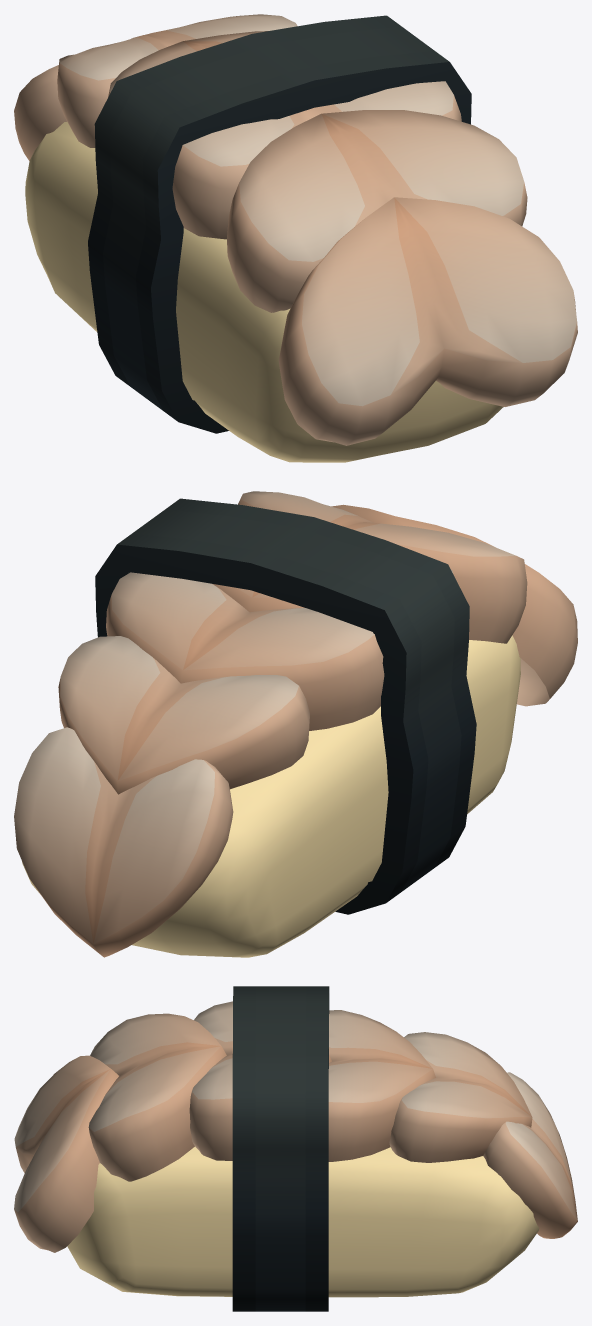
Rendered from sushi_white.fbx.
The picture shows the model from 3 angles, top to bottom: view 1: azimuth 30°, elevation 25°; view 2: azimuth 150°, elevation 25°; view 3: azimuth 270°, elevation 25°; orthographic projection. The views are drawn at different scales.
Visible parts, largest first — view 1: sushi_white; view 2: sushi_white; view 3: sushi_white.
Part boxes in pixels (box(x1,y1,x2,y2)): sushi_white: box(14, 14, 577, 462); sushi_white: box(14, 491, 577, 957); sushi_white: box(14, 986, 577, 1311).
Size of the model in its own units: 0.9507 by 0.9192 by 1.87.
